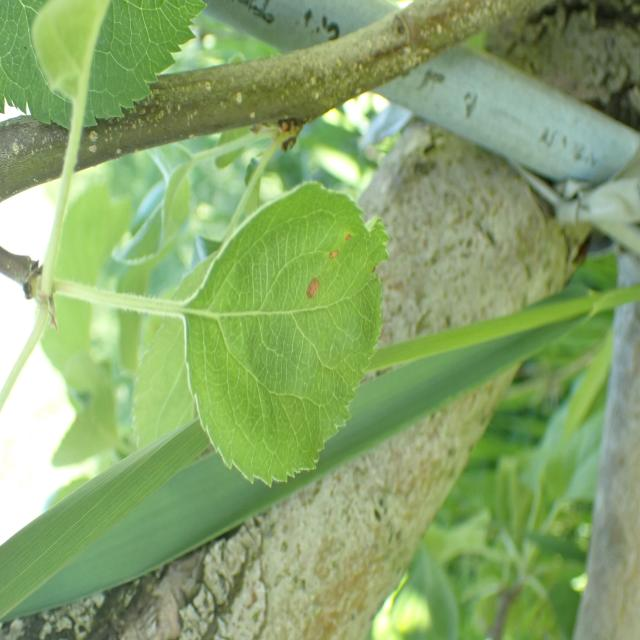frog-eye-leaf-spot: (133, 179, 392, 490)
